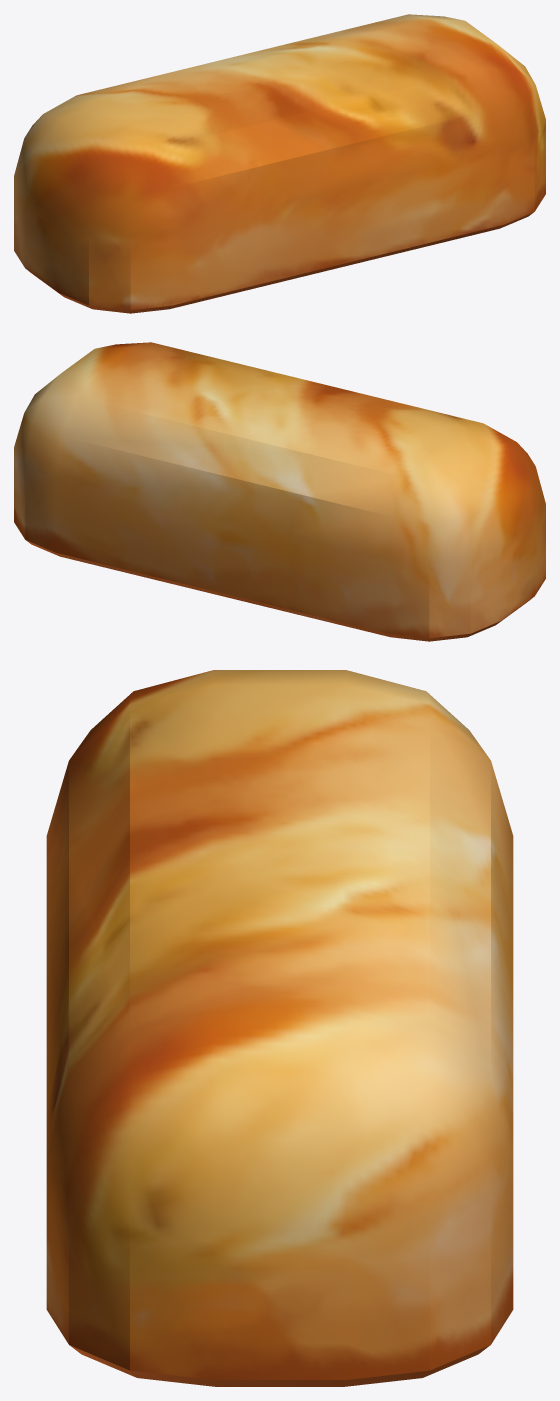
Rendered from Bread.fbx.
3 renders of one model, top to bottom at view 1: azimuth 30°, elevation 25°; view 2: azimuth 150°, elevation 25°; view 3: azimuth 270°, elevation 25°, orthographic. The views are drawn at different scales.
Parts seen in each view (by area): view 1: Bread, BreadEnd; view 2: Bread, BreadEnd; view 3: Bread, BreadEnd.
Part boxes in pixels (bbox=[...]): Bread: bbox=[175, 14, 545, 286]; BreadEnd: bbox=[14, 71, 266, 313]; Bread: bbox=[14, 342, 400, 614]; BreadEnd: bbox=[288, 403, 545, 641]; Bread: bbox=[46, 775, 513, 1386]; BreadEnd: bbox=[46, 670, 513, 932].
Bounding box in the file's own units: 322 × 101 × 137.
Materials: 1 (1 with a texture image).
